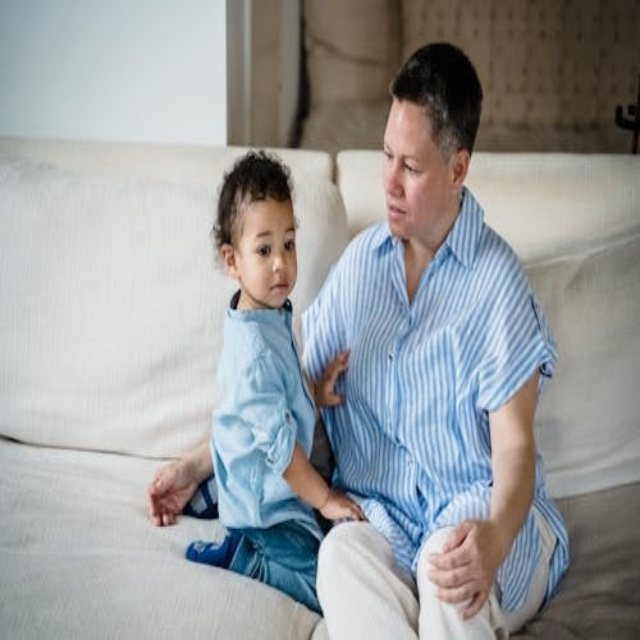Sin_gafas: (378, 129, 433, 181), (244, 223, 296, 259)
Sin_guantes: (425, 505, 504, 621), (136, 448, 200, 534), (311, 336, 353, 407), (314, 475, 370, 527)
Sin_mascara: (384, 192, 419, 240), (260, 275, 292, 306)
